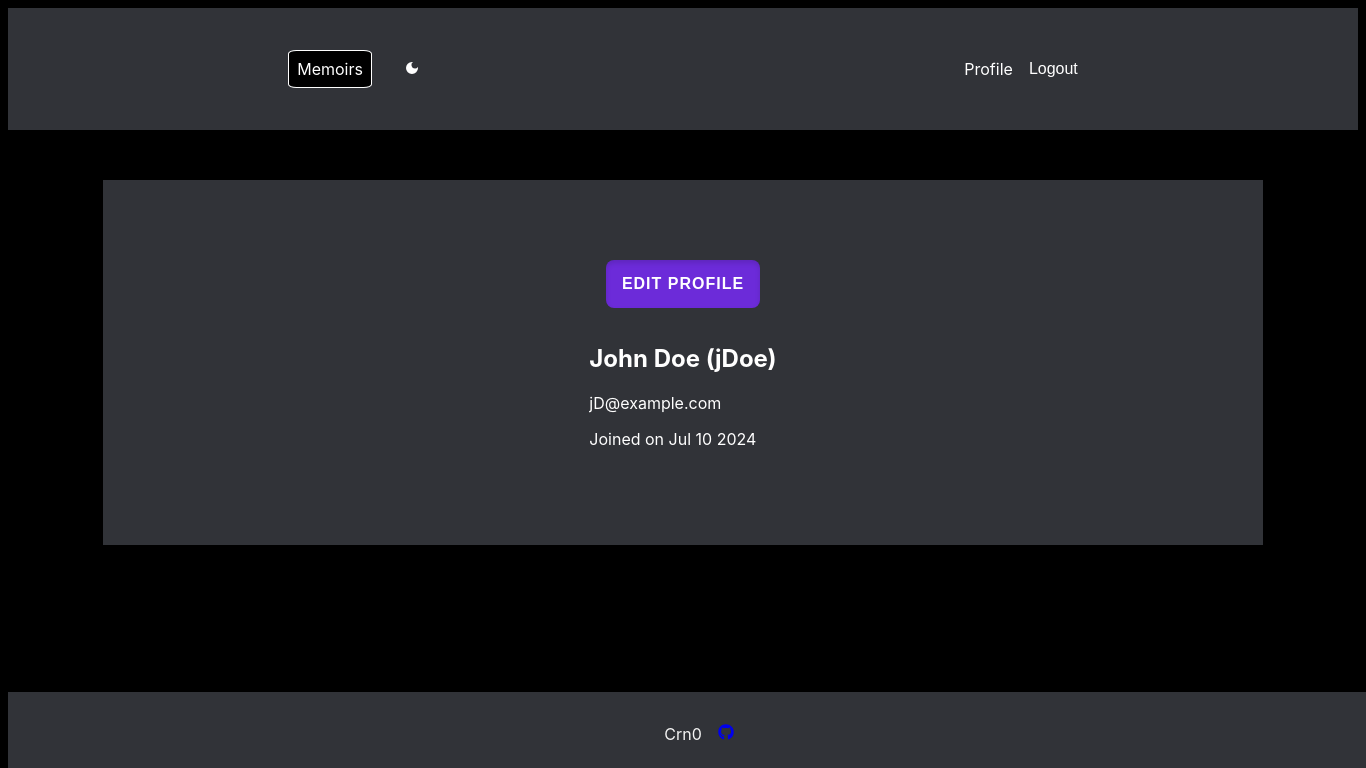
Scenario: Profile component › renders the form when the edit button is clicked
Click the button "Edit profile" at x=683, y=284, box [606,260,760,308]
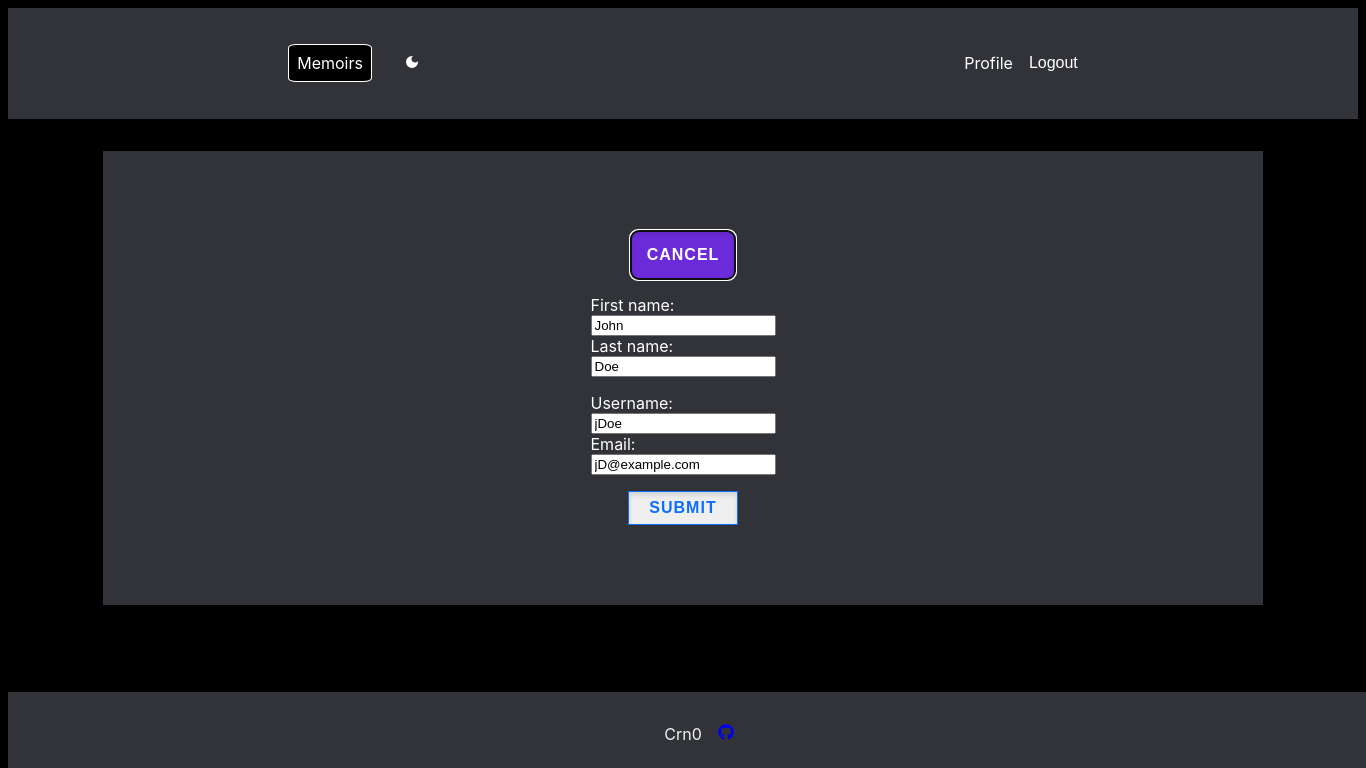
Expected: the field labelled "First name:" is shown, [590,315,776,336]
Expected: the field labelled "Last name:" is shown, [590,356,776,377]
Expected: the field labelled "Username:" is shown, [590,413,776,434]
